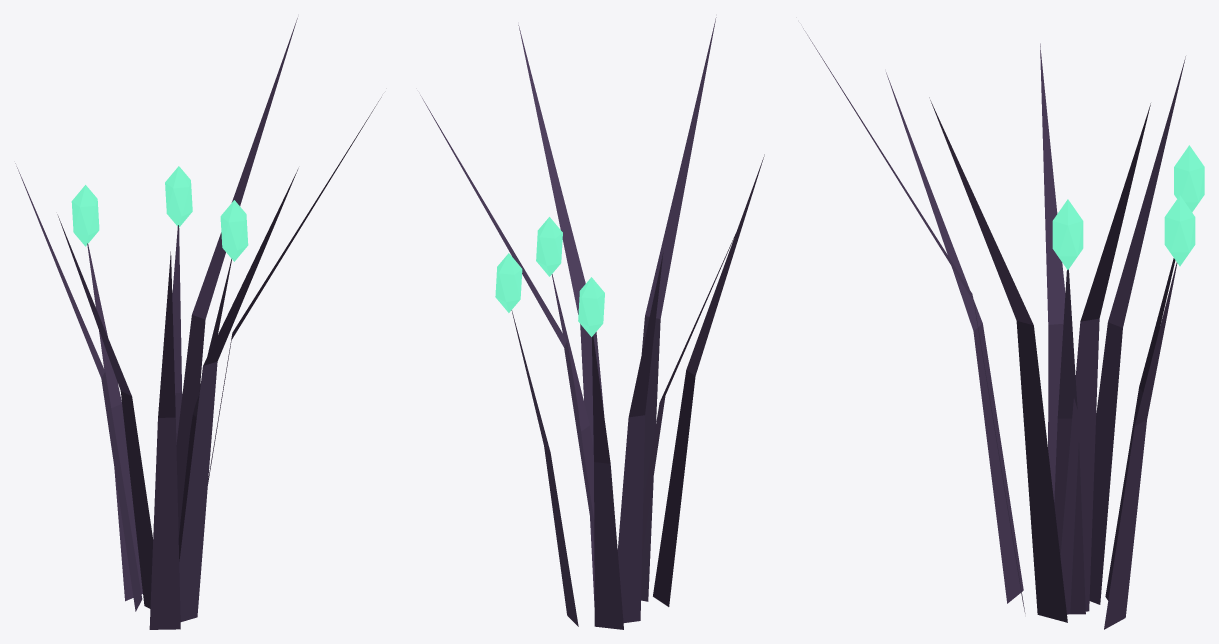
Rendered from exo-flora-reeds.glb.
The picture shows the model from 3 angles, left to right: view 1: azimuth 30°, elevation 25°; view 2: azimuth 150°, elevation 25°; view 3: azimuth 270°, elevation 25°; orthographic projection. The views are drawn at different scales.
Parts seen in each view (by area): view 1: body; view 2: body; view 3: body.
Part boxes in pixels (x1,y1,x2,y2): body: [15, 18, 381, 629]; body: [420, 17, 764, 629]; body: [803, 28, 1204, 629].
Bounding box in the file's own units: 1.51 × 2.6 × 1.6.
